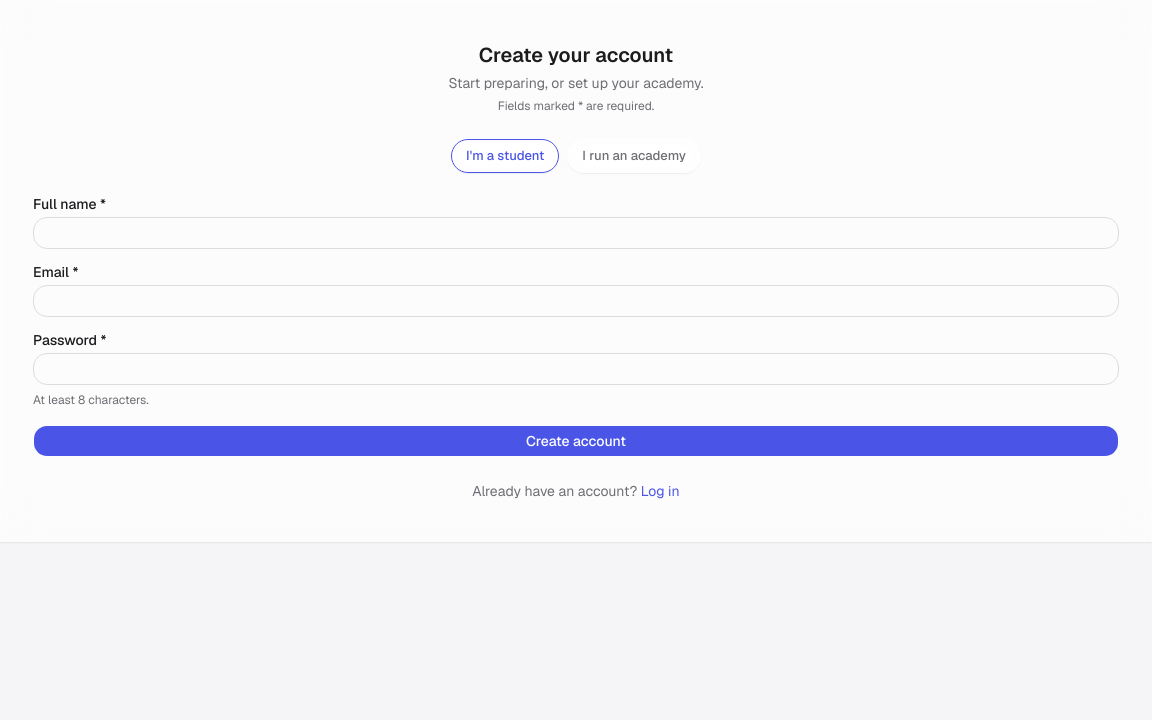
Test: SignupForm › asks the user to confirm their email instead of navigating into a protected page
The width and height of the screenshot is (1152, 720).
Type "New Cadet" into the field labelled "Full name *" at (576, 232), box x1=33 y1=216 x2=1119 y2=248
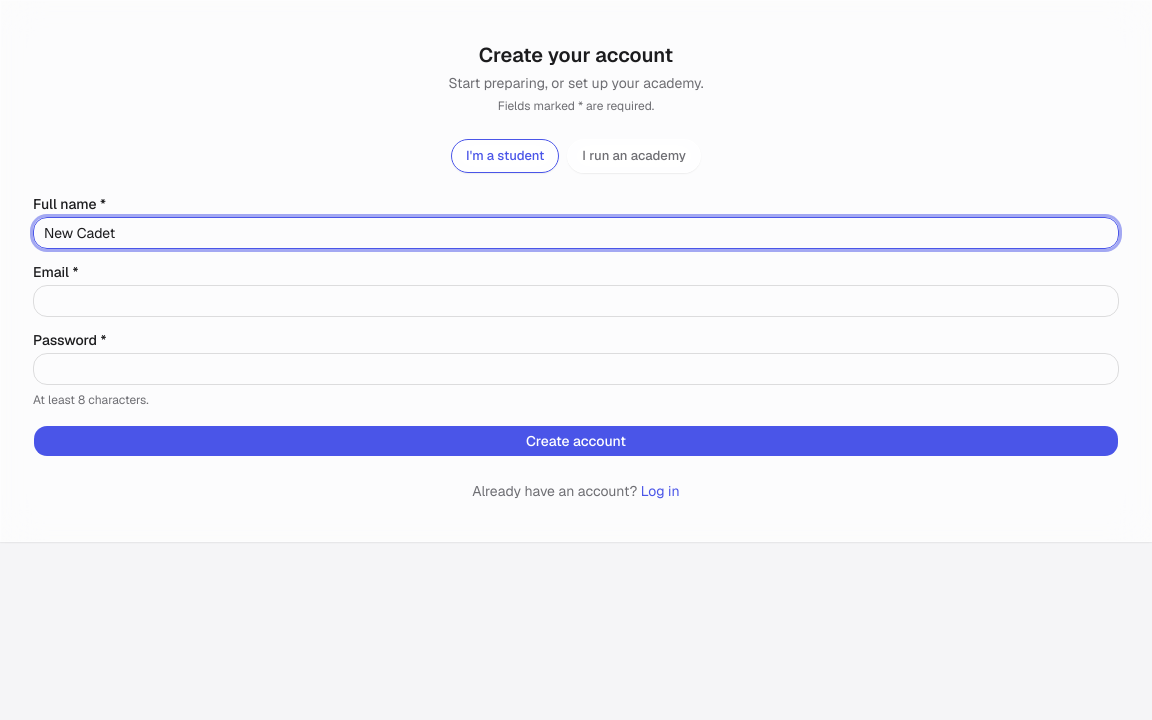
Type "new@example.com" into the field labelled "Email *" at (576, 300), box x1=33 y1=284 x2=1119 y2=316
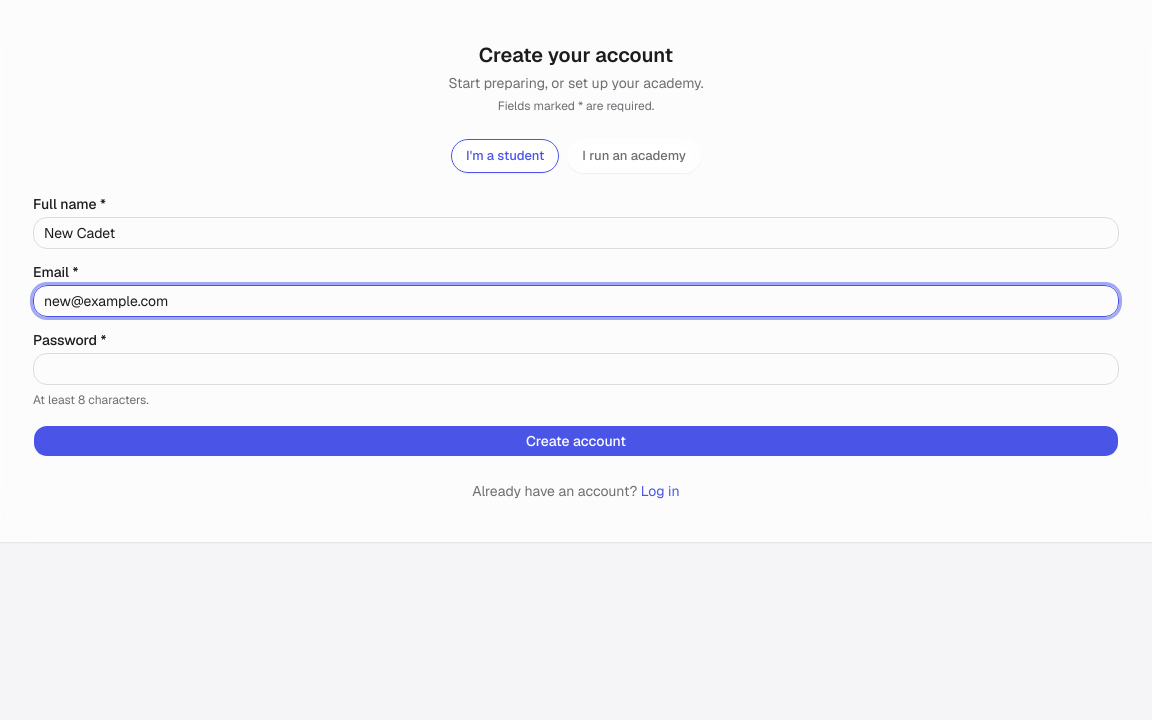
Type "correcthorse" into the password field labelled "Password *" at (576, 368), box x1=33 y1=352 x2=1119 y2=384
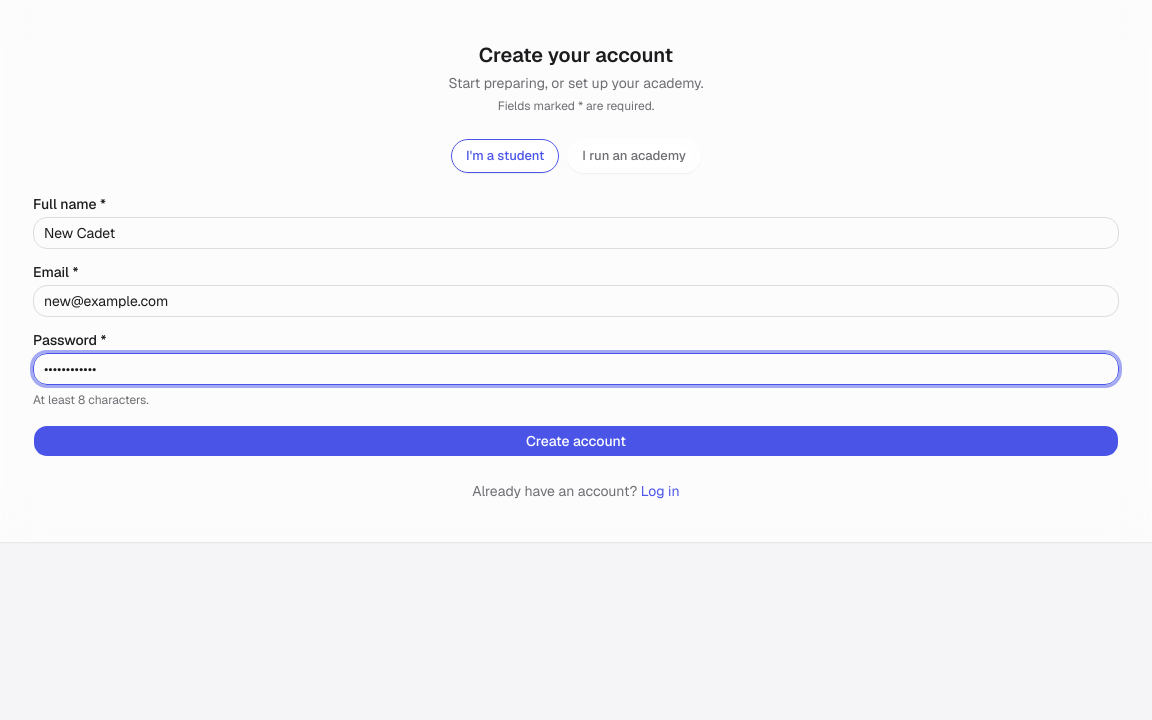
Click the button "Create account" at (576, 440), box x1=33 y1=424 x2=1119 y2=456
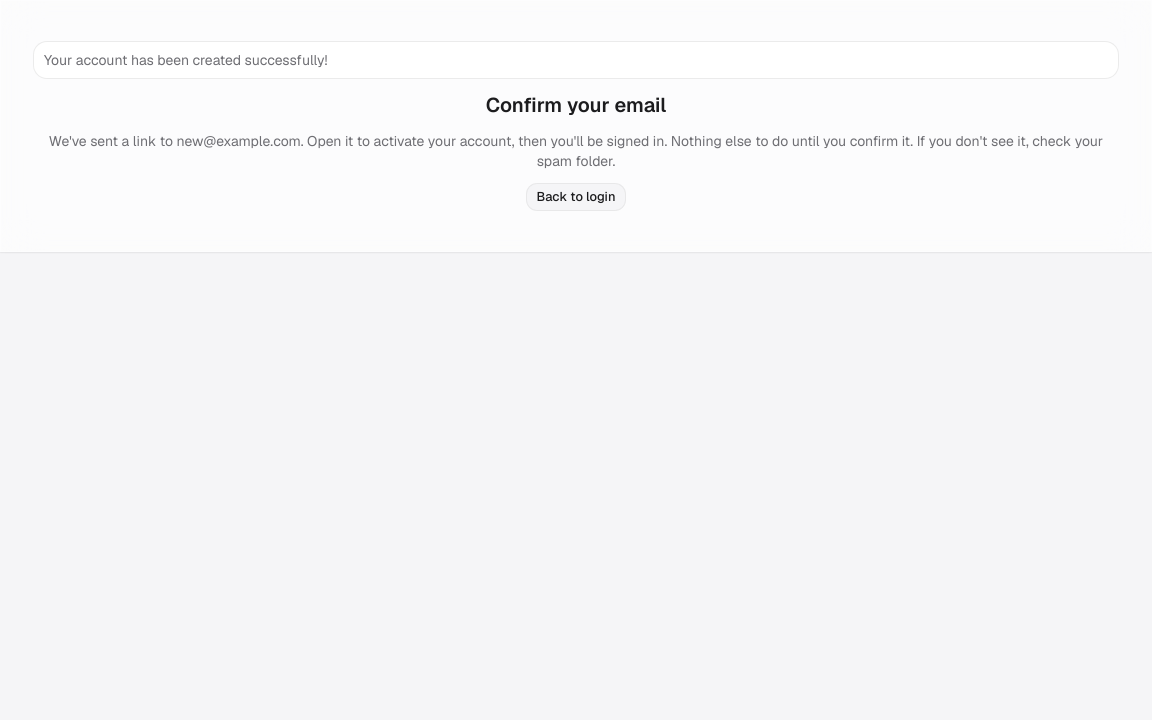
Expected: the heading "Confirm your email" is shown, x1=486 y1=91 x2=666 y2=119
